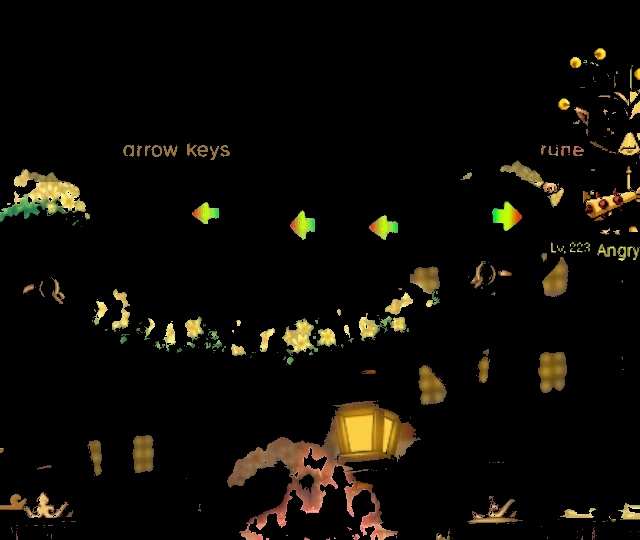left: (363, 206, 407, 245), (283, 206, 322, 248), (183, 195, 226, 230)
right: (485, 194, 526, 236)
